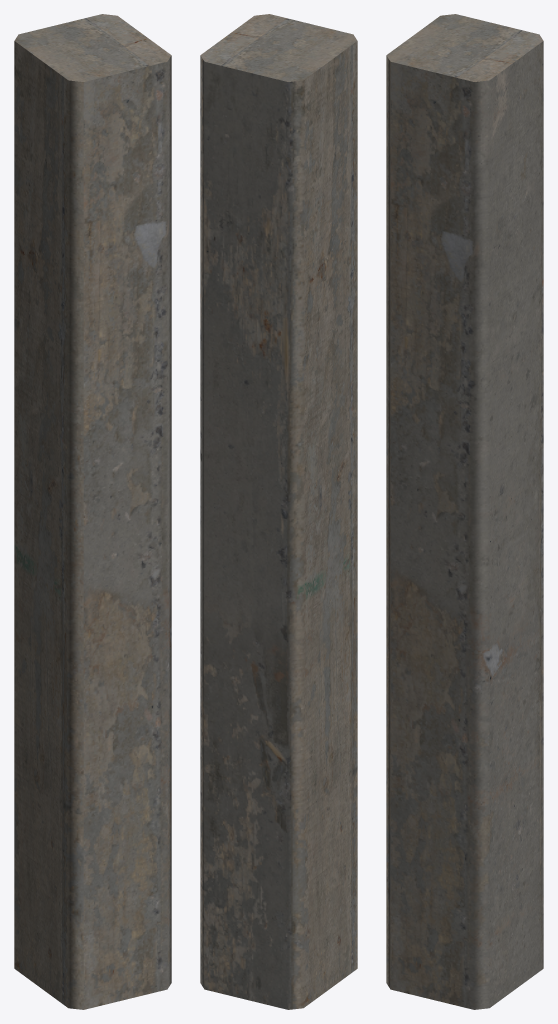
File: SM_Pilar.fbx
3 views of the same model, side by side, from view 1: azimuth 30°, elevation 25°; view 2: azimuth 150°, elevation 25°; view 3: azimuth 330°, elevation 25° (orthographic).
Visible parts, largest first — view 1: SM_Pilar; view 2: SM_Pilar; view 3: SM_Pilar.
Boxes of the visible parts, x1=… form: SM_Pilar: x1=14, y1=14, x2=171, y2=1009; SM_Pilar: x1=200, y1=14, x2=357, y2=1009; SM_Pilar: x1=386, y1=14, x2=543, y2=1009.
Size of the model in its own units: 32 by 275 by 35.
